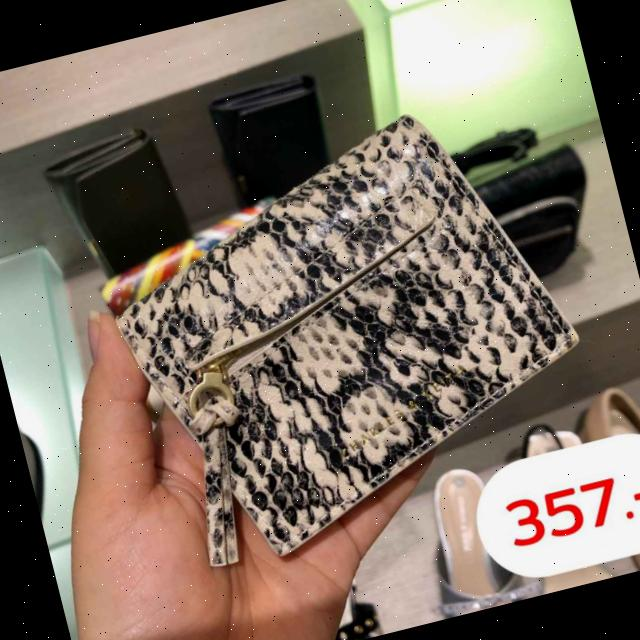Handbag: (115, 114, 577, 566)
